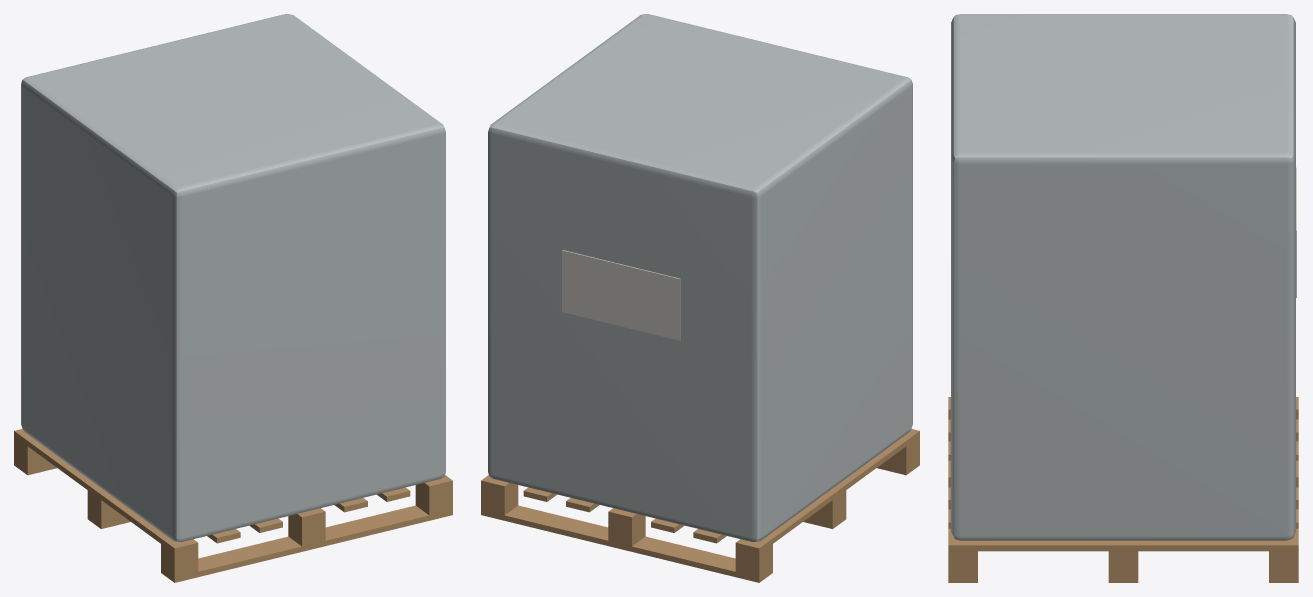
Rendered from prop_pallet_wrapped.glb.
3 renders of one model, left to right at view 1: azimuth 30°, elevation 25°; view 2: azimuth 150°, elevation 25°; view 3: azimuth 270°, elevation 25°, orthographic. The views are drawn at different scales.
Parts seen in each view (by area): view 1: Pallet; view 2: Pallet; view 3: Pallet.
Boxes of the visible parts, x1,y1,x2,y2 form: Pallet: [14, 14, 452, 582]; Pallet: [481, 14, 919, 582]; Pallet: [948, 14, 1298, 582].
Size of what is drawn, in the model's own units: 1.18 by 1.58 by 1.18.
